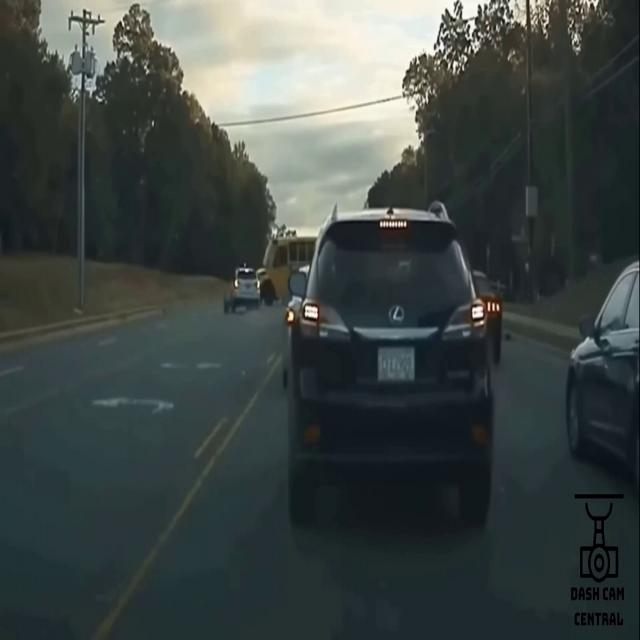accident: (222, 237, 295, 317)
